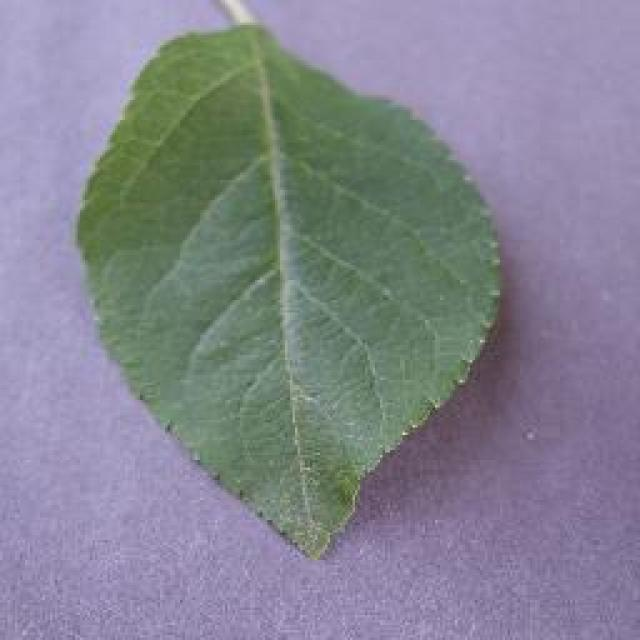apple healthy: (73, 15, 505, 560)
